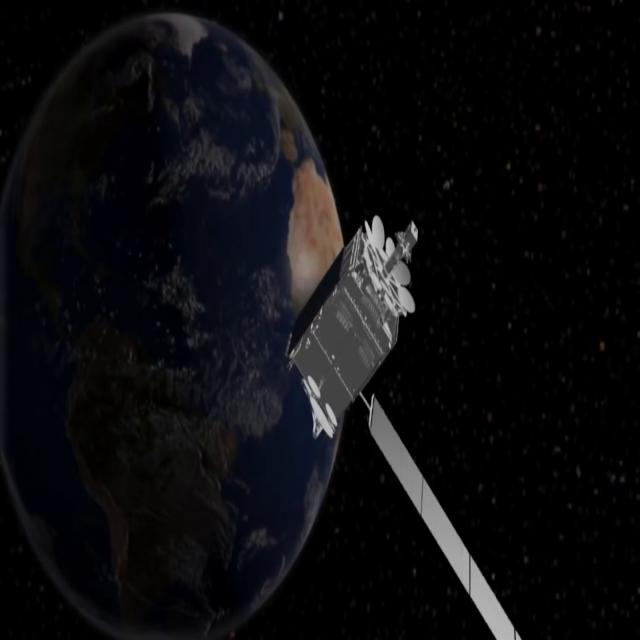satellite: (285, 191, 536, 640)
